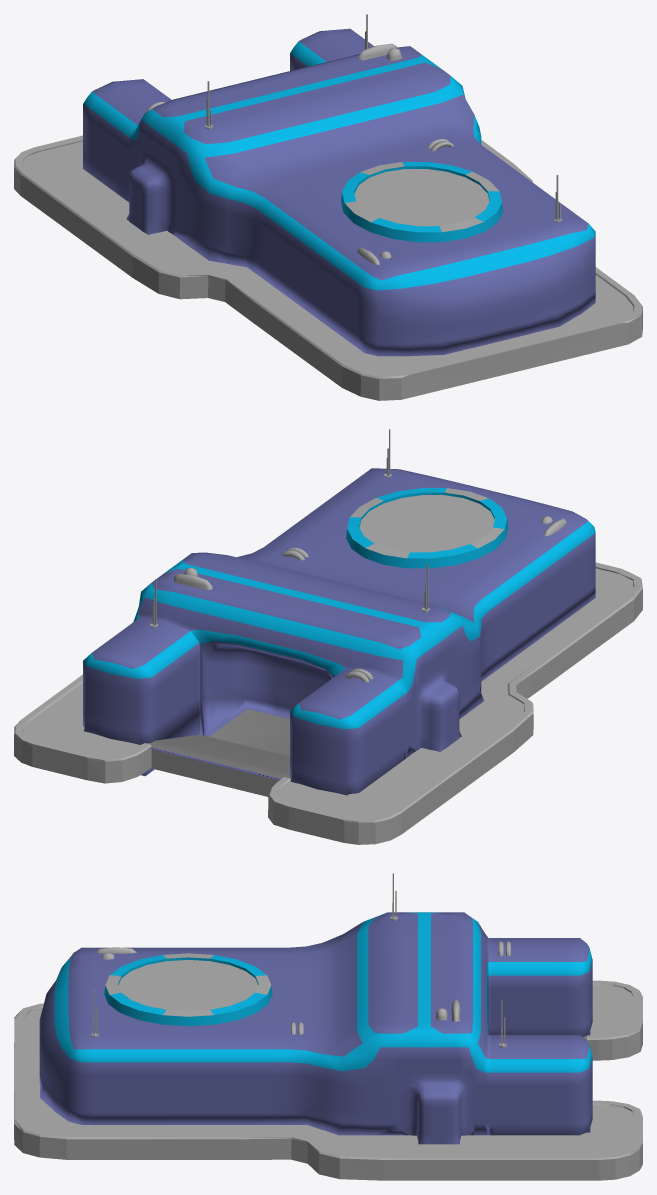
Rendered from VehicleBay.fbx.
3 renders of one model, top to bottom at view 1: azimuth 30°, elevation 25°; view 2: azimuth 150°, elevation 25°; view 3: azimuth 270°, elevation 25°, orthographic. The views are drawn at different scales.
Visible parts, largest first — view 1: pCylinder3, pCube13; view 2: pCylinder3, pCube13; view 3: pCylinder3, pCube13.
Boxes of the visible parts, x1=… form: pCylinder3: x1=83, y1=14, x2=595, y2=356; pCube13: x1=14, y1=135, x2=642, y2=400; pCylinder3: x1=83, y1=429, x2=595, y2=795; pCube13: x1=14, y1=562, x2=642, y2=844; pCylinder3: x1=39, y1=873, x2=592, y2=1144; pCube13: x1=14, y1=980, x2=642, y2=1180.
Size of the model in its own units: 376 by 170 by 560.
